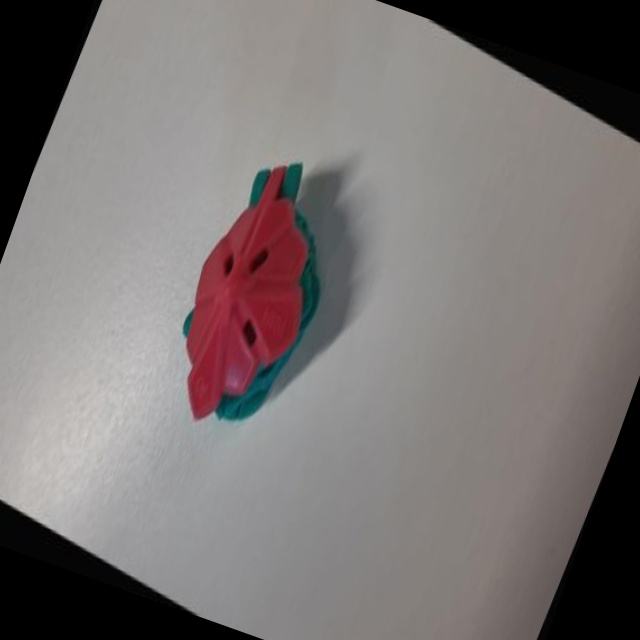House: (117, 118, 385, 508)
